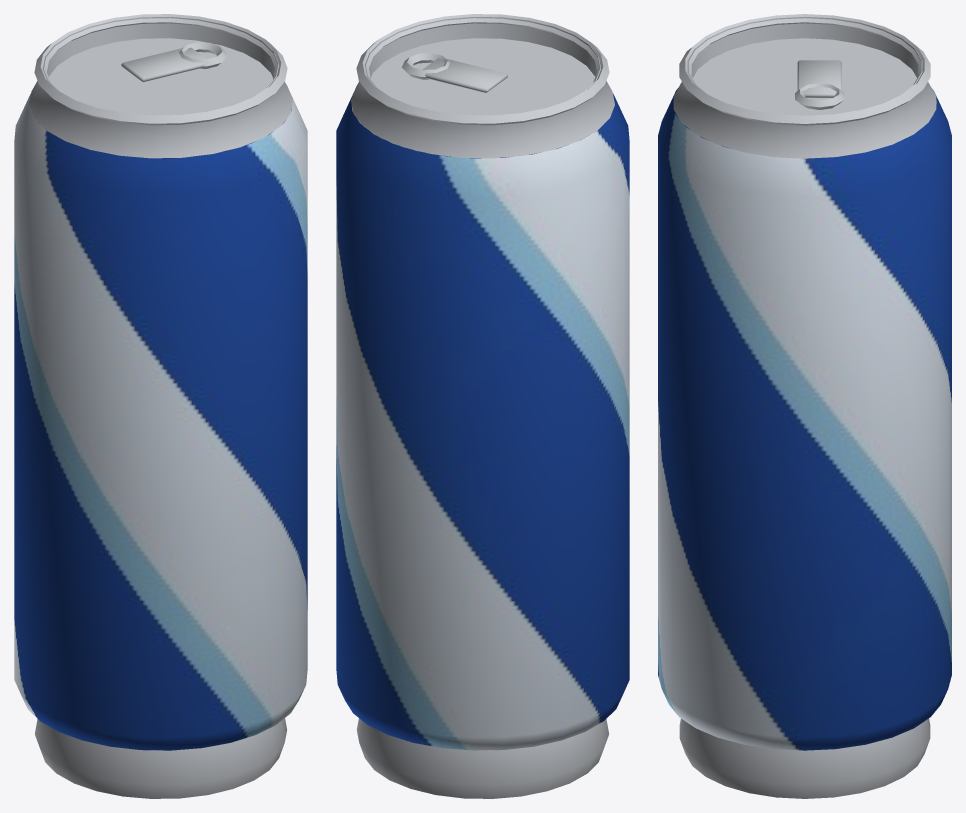
File: can_blue_cooler_tall.glb
The picture shows the model from 3 angles, left to right: view 1: azimuth 30°, elevation 25°; view 2: azimuth 150°, elevation 25°; view 3: azimuth 270°, elevation 25°; orthographic projection.
Visible parts, largest first — view 1: can_blue_cooler_tall; view 2: can_blue_cooler_tall; view 3: can_blue_cooler_tall.
Boxes of the visible parts, x1,y1,x2,y2 form: can_blue_cooler_tall: [14, 14, 307, 798]; can_blue_cooler_tall: [336, 14, 629, 798]; can_blue_cooler_tall: [658, 14, 951, 798].
Bounding box in the file's own units: 0.066 × 0.1694 × 0.066.
Materials: 4 (1 with a texture image).
